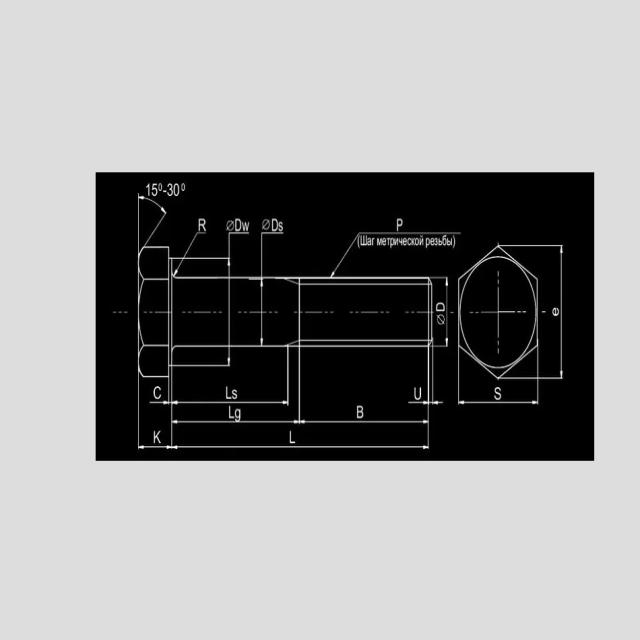marking_line: (172, 444, 428, 451), (172, 418, 299, 426), (173, 400, 287, 406), (559, 248, 564, 378), (301, 421, 428, 426), (226, 261, 232, 366), (459, 399, 537, 405), (259, 280, 265, 345), (445, 278, 449, 348), (137, 445, 170, 453), (150, 397, 169, 406), (409, 400, 428, 405), (433, 400, 445, 405)
numeric: (143, 180, 163, 199), (234, 217, 250, 232), (271, 216, 285, 233), (167, 184, 185, 197)
special_symbol: (329, 230, 390, 276), (137, 194, 169, 246), (174, 233, 206, 274), (226, 219, 236, 233), (261, 217, 271, 231), (437, 313, 445, 326)
